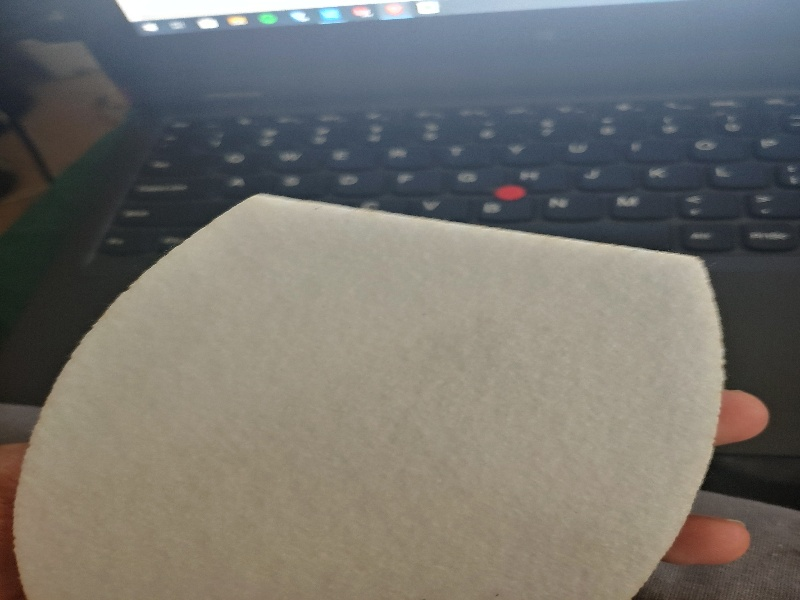Filter: (12, 190, 725, 600)
